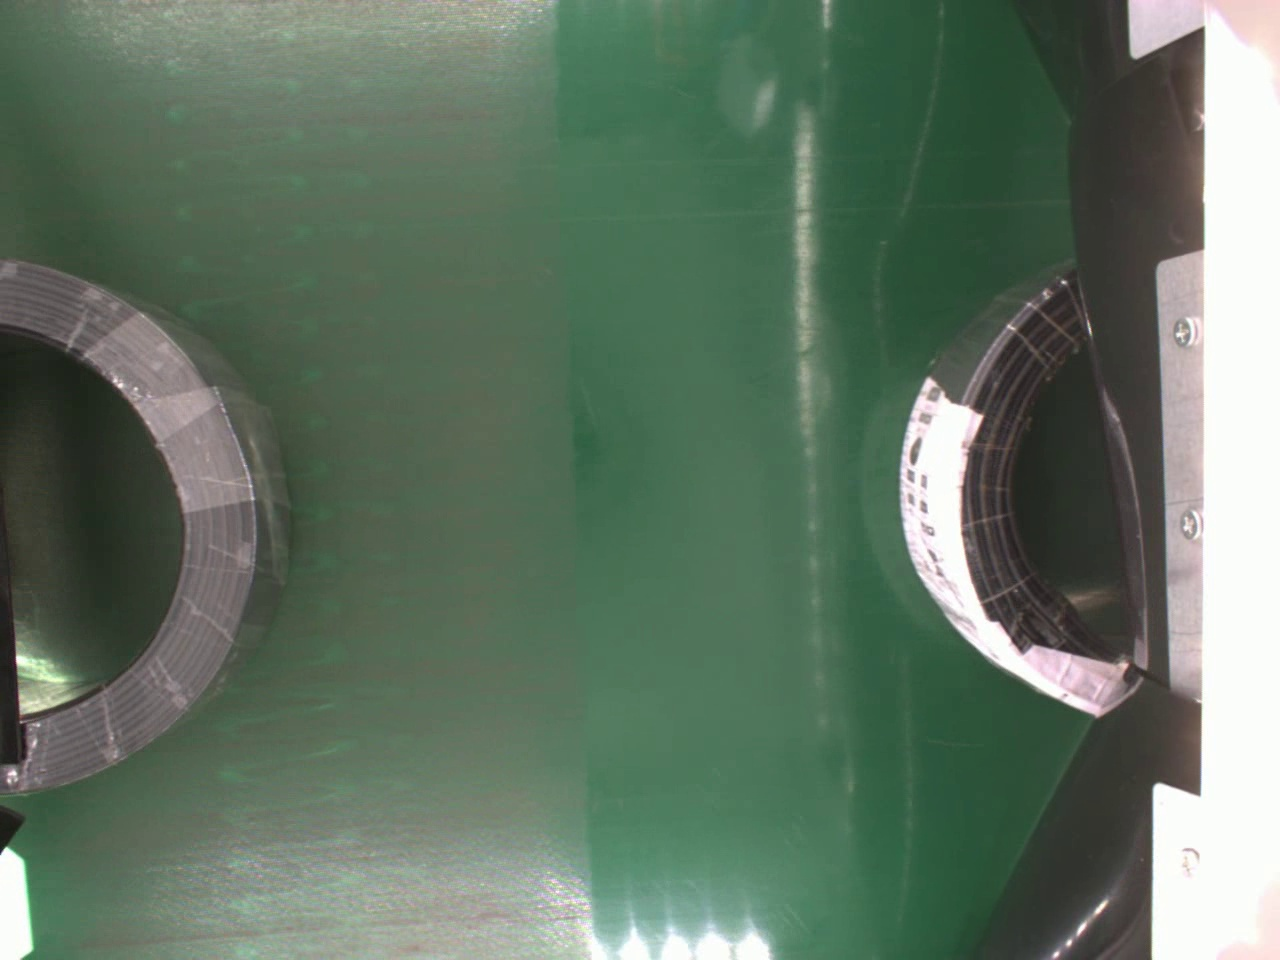black: (0, 255, 291, 797), (898, 251, 1134, 716)
